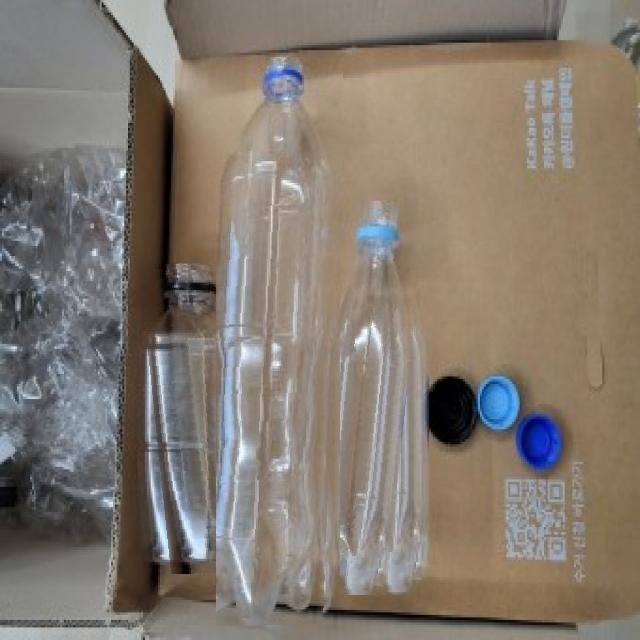plastic bottle: (216, 58, 344, 628), (340, 201, 426, 595), (140, 264, 232, 574)
